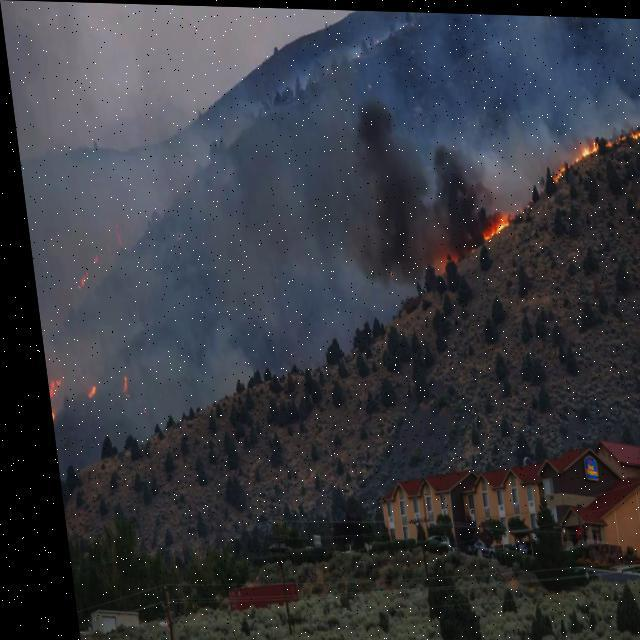Fire: (600, 122, 639, 146), (476, 213, 504, 240), (569, 136, 597, 158), (68, 272, 83, 286), (76, 383, 88, 398), (39, 378, 50, 394), (550, 163, 562, 177), (112, 374, 120, 394), (84, 248, 94, 264)
